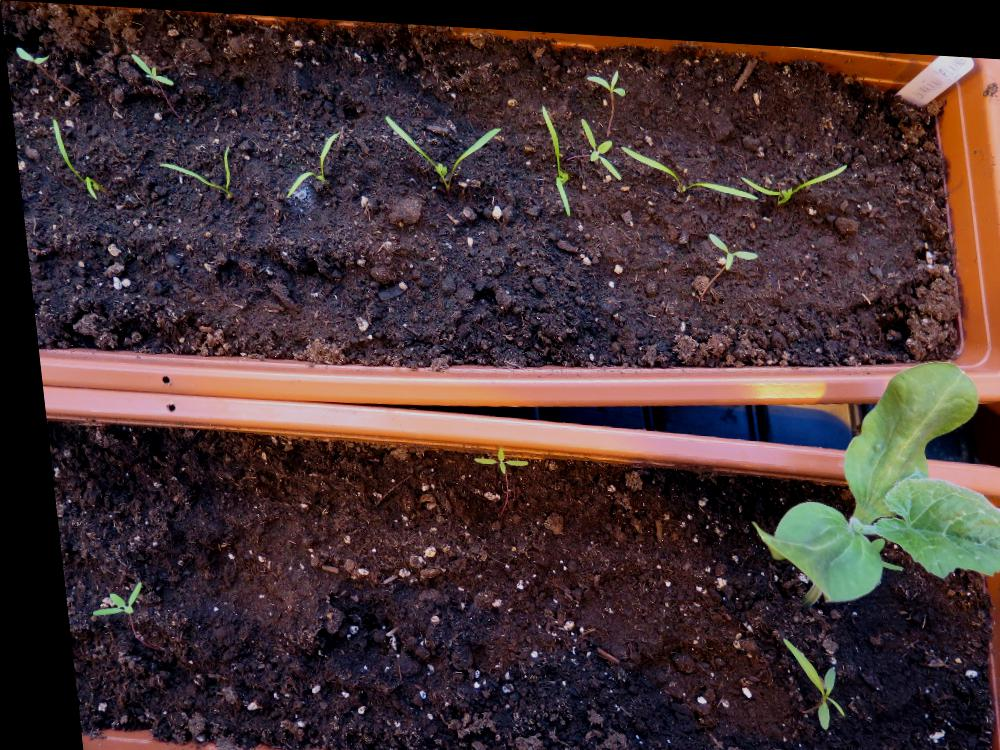crop: (380, 107, 508, 189), (275, 121, 343, 197), (150, 136, 230, 197), (47, 116, 98, 201), (537, 97, 569, 210)
weed: (766, 626, 832, 724), (576, 109, 619, 173), (71, 575, 131, 620), (702, 222, 754, 263), (459, 439, 520, 469), (128, 50, 172, 85), (583, 57, 624, 90), (12, 44, 48, 64)
